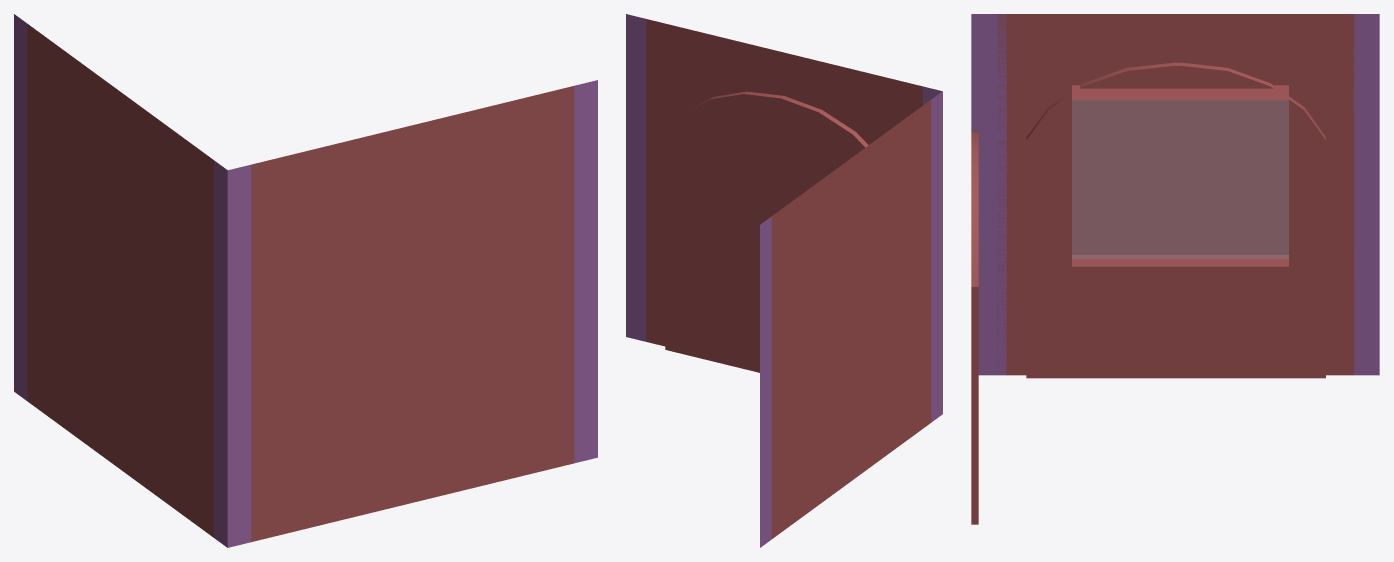
The model's file is MainBP.fbx.
3 renders of one model, left to right at view 1: azimuth 30°, elevation 25°; view 2: azimuth 150°, elevation 25°; view 3: azimuth 270°, elevation 25°, orthographic. The views are drawn at different scales.
Parts seen in each view (by area): view 1: outerWall, outerPillar, outerPillars; view 2: outerWall (×2), outerPillars; view 3: outerWall (×3), outerPillar (×3), window.
Boxes of the visible parts, bbox=[...] form: outerWall: bbox=[27, 24, 574, 541]; outerPillar: bbox=[223, 80, 597, 547]; outerPillars: bbox=[14, 14, 597, 547]; outerWall (×2): bbox=[646, 19, 931, 538]; outerPillars: bbox=[626, 14, 942, 547]; outerWall (×3): bbox=[971, 14, 1354, 524]; outerPillar (×3): bbox=[971, 14, 1379, 375]; window: bbox=[1072, 100, 1288, 258].
Size of the model in its own units: 1.03 by 1 by 1.03.
